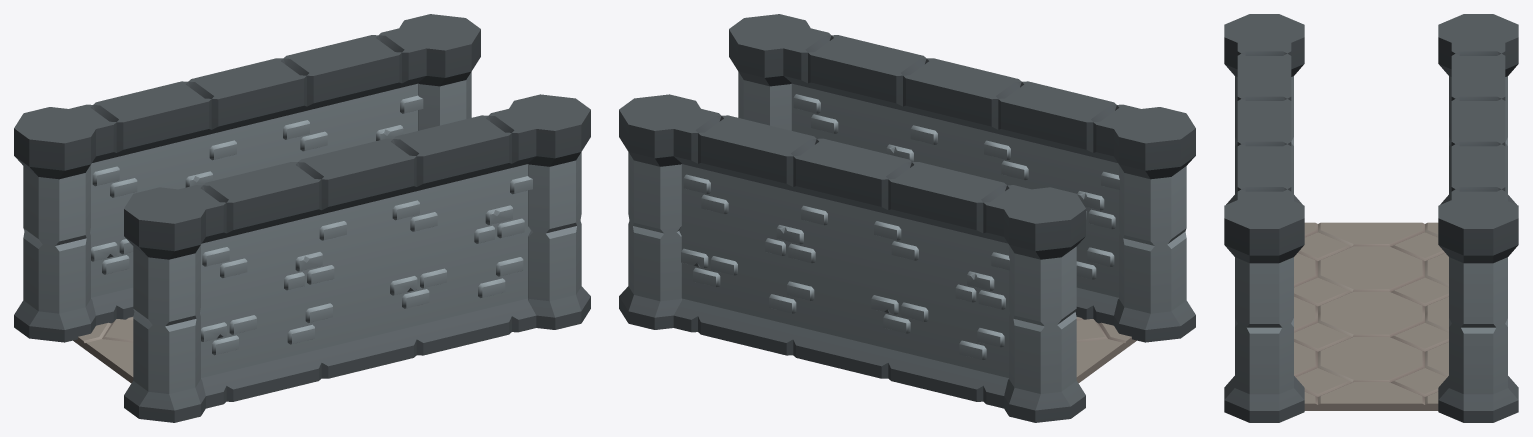
3 renders of one model, left to right at view 1: azimuth 30°, elevation 25°; view 2: azimuth 150°, elevation 25°; view 3: azimuth 270°, elevation 25°, orthographic. The views are drawn at different scales.
Visible parts, largest first — view 1: wall.001, wall.002, wall.003, wall, pillar.001, pillar, pillar.003, pillar.002, floor_tile_large.001; view 2: wall, wall.003, wall.002, wall.001, pillar, pillar.001, pillar.002, pillar.003, floor_tile_large.001; view 3: pillar.003, pillar.002, floor_tile_large, floor_tile_large.001, wall.002, wall.003, wall.001, wall, pillar.001, pillar.
Part boxes in pixels (x1,y1,x2,y2): wall.001: (344,102,560,368); wall.002: (157,149,371,408); wall.003: (46,68,261,325); wall: (234,22,450,170); pillar.001: (124,187,209,422); pillar: (14,107,99,342); pillar.003: (505,94,590,329); pillar.002: (395,14,480,130); floor_tile_large.001: (73,316,133,383); wall: (649,102,865,368); wall.003: (839,149,1052,408); wall.002: (948,68,1161,325); wall.001: (760,22,975,170); pillar: (1002,187,1085,422); pillar.001: (1114,107,1195,342); pillar.002: (619,94,700,329); pillar.003: (729,14,813,130); floor_tile_large.001: (1076,316,1136,383); pillar.003: (1224,195,1304,422); pillar.002: (1438,195,1518,422); floor_tile_large: (1294,313,1448,410); floor_tile_large.001: (1294,222,1448,314); wall.002: (1237,31,1291,121); wall.003: (1451,31,1505,121); wall.001: (1237,121,1291,211); wall: (1451,121,1505,211); pillar.001: (1224,14,1304,204); pillar: (1438,14,1518,204).
Size of the model in its own units: 9.5 by 4.1 by 5.5.
Materials: 3 (3 with a texture image).
